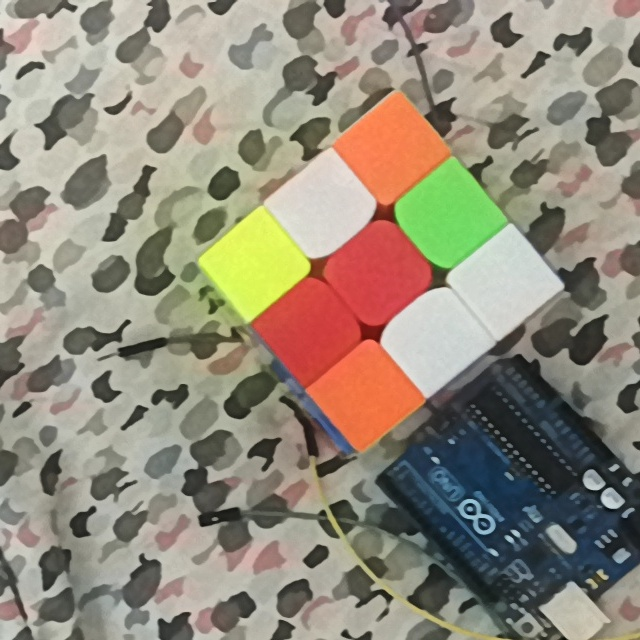tile: (418, 186, 480, 243), (362, 120, 423, 176), (348, 245, 407, 302), (408, 310, 466, 366), (337, 367, 395, 422), (477, 252, 532, 309), (281, 303, 337, 358), (296, 177, 348, 236), (226, 238, 281, 292)
